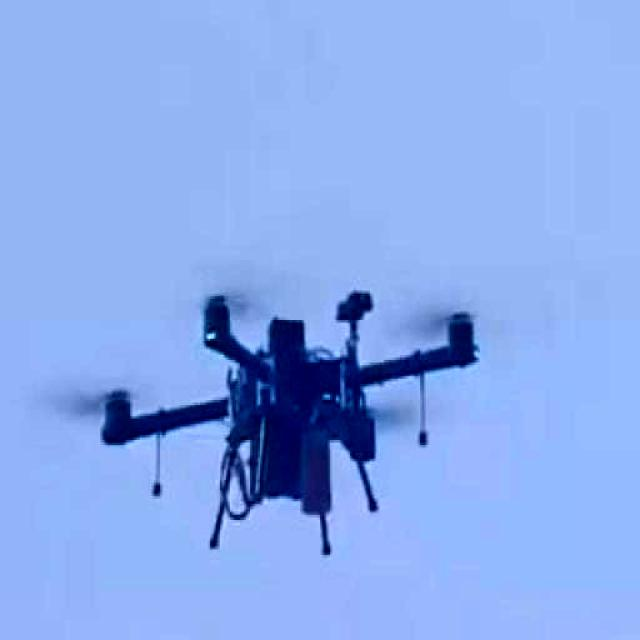bird: (102, 286, 479, 561)
